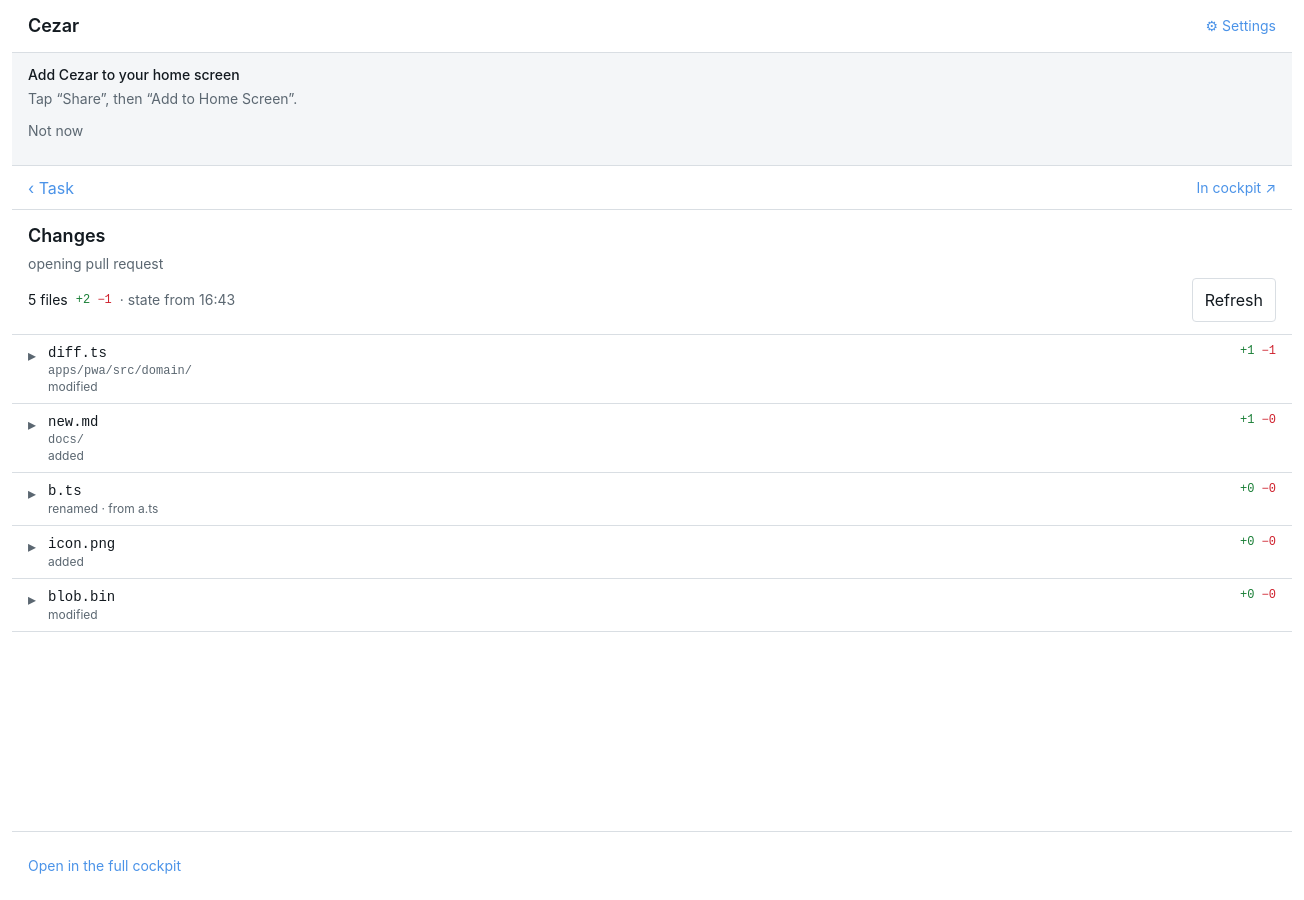
Test: DiffScreen — file by file › icon.png says why there is no patch to read
The image size is (1304, 900).
Click the button "▸ icon.png added +0 −0": (82, 544) [12, 526, 1292, 578]
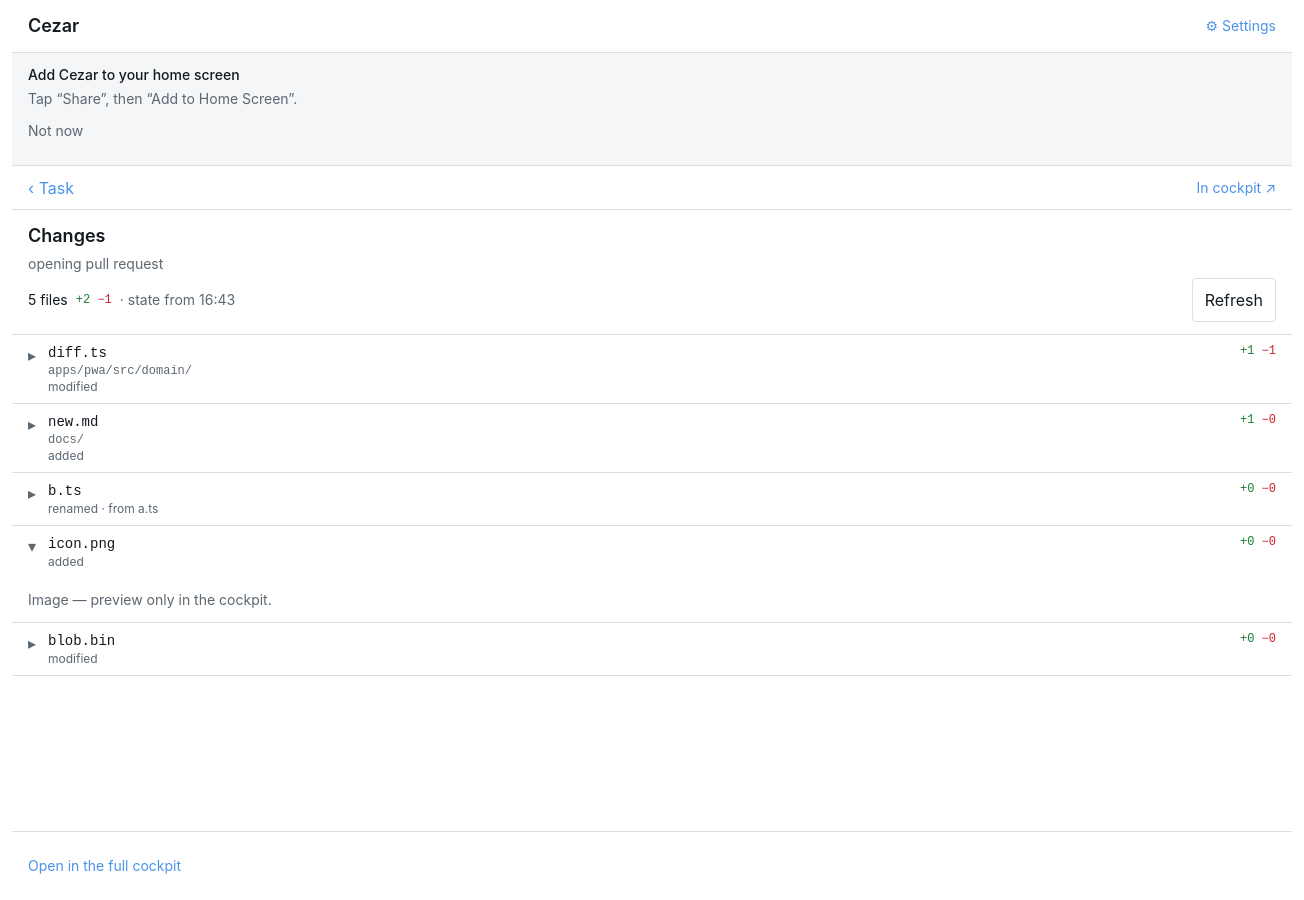
Expected: the text "Image — preview only in the cockpit." is shown, [28, 591, 272, 608]
